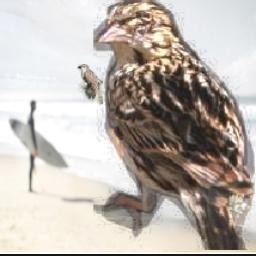Cuckoo: (79, 64, 104, 104)
Sparrow: (95, 1, 256, 251)
